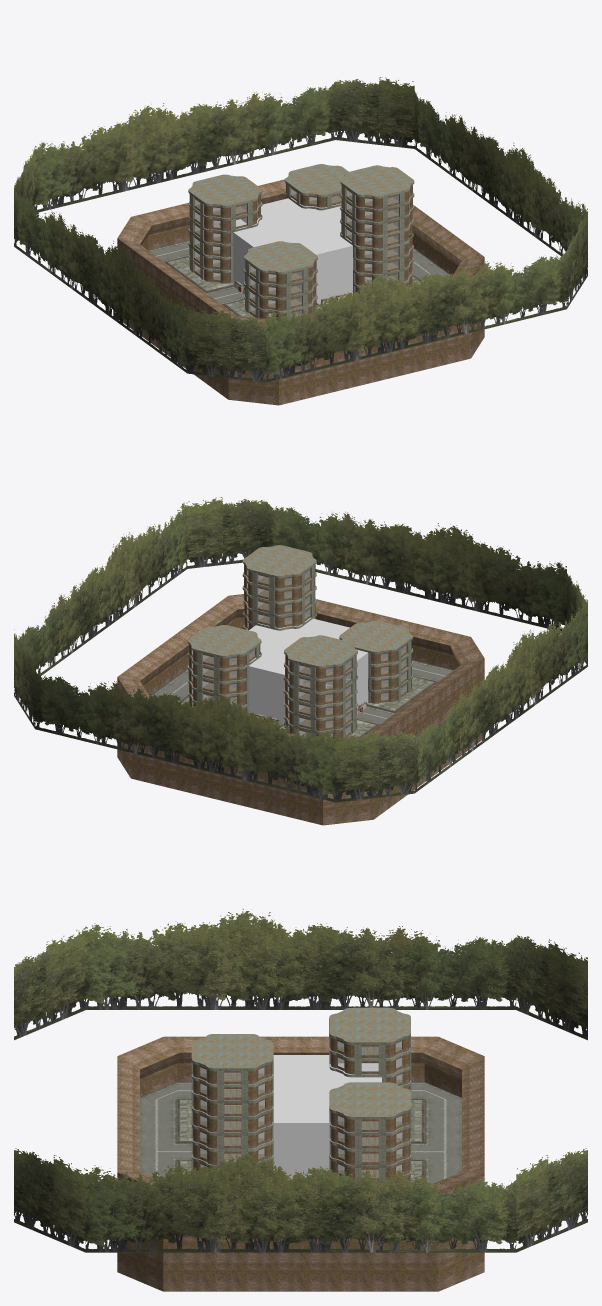
The model's file is Dragonfly_Streets.fbx.
3 views of the same model, one above another, from view 1: azimuth 30°, elevation 25°; view 2: azimuth 150°, elevation 25°; view 3: azimuth 270°, elevation 25° (orthographic). The views are drawn at different scales.
Parts seen in each view (by area): view 1: Plane.007, Plane, PLAYER_CLIP; view 2: Plane.007, Plane, PLAYER_CLIP; view 3: Plane.007, Plane, PLAYER_CLIP.
Part boxes in pixels (left/top/right/bottom): Plane.007: left=14, top=77, right=587, bottom=382; Plane: left=117, top=164, right=484, bottom=405; PLAYER_CLIP: left=218, top=197, right=360, bottom=304; Plane.007: left=14, top=497, right=587, bottom=802; Plane: left=117, top=545, right=484, bottom=825; PLAYER_CLIP: left=241, top=618, right=368, bottom=724; Plane.007: left=14, top=908, right=587, bottom=1252; Plane: left=117, top=1007, right=484, bottom=1291; PLAYER_CLIP: left=271, top=1055, right=381, bottom=1179.
Size of the model in its own units: 83.52 by 38.27 by 83.52.
